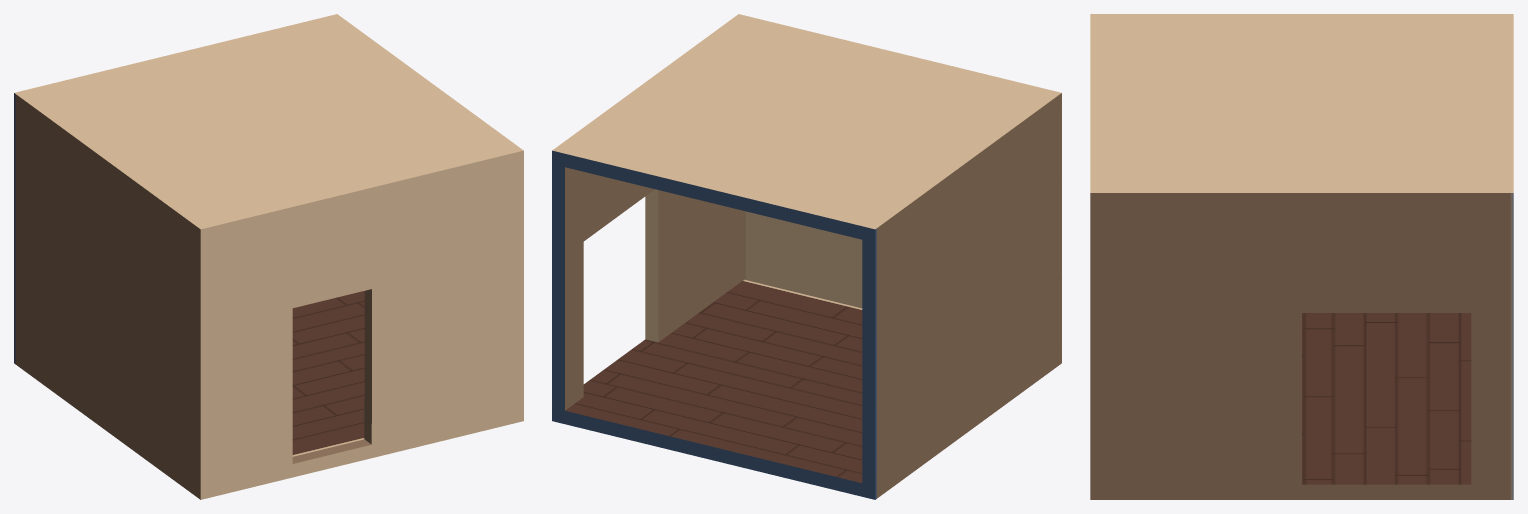
Rendered from Hallway1UP_LEFT_1Door.fbx.
The picture shows the model from 3 angles, left to right: view 1: azimuth 30°, elevation 25°; view 2: azimuth 150°, elevation 25°; view 3: azimuth 270°, elevation 25°; orthographic projection. The views are drawn at different scales.
Visible parts, largest first — view 1: HallWay_LEft_onedoor; view 2: HallWay_LEft_onedoor; view 3: HallWay_LEft_onedoor.
Boxes of the visible parts, x1,y1,x2,y2 form: HallWay_LEft_onedoor: (14,14,523,499); HallWay_LEft_onedoor: (552,14,1061,499); HallWay_LEft_onedoor: (1090,14,1513,499).
Bounding box in the file's own units: 500 × 400 × 500.
